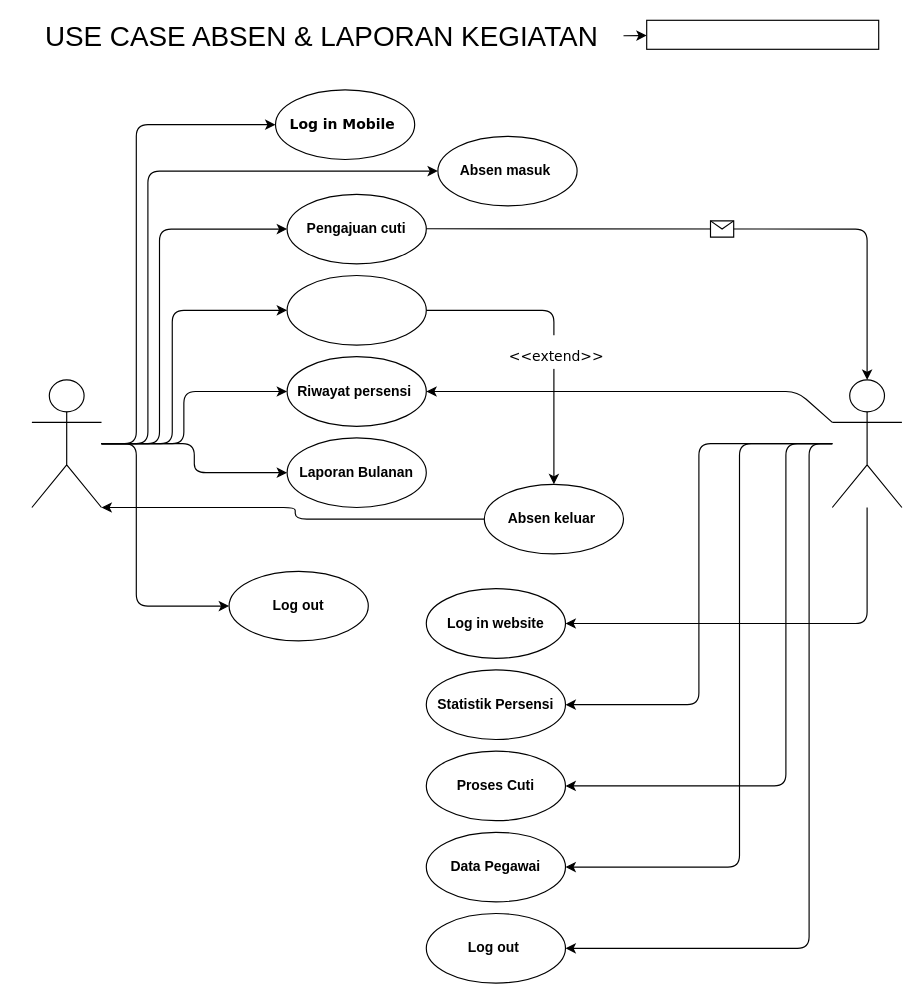
The diagram is 922 pixels wide and 1003 high, and some of its shapes have lost their labels. Each missing label, with the centre of its shape:
Admin: the point at 866,443
Buat Kegiatan: the point at 356,309
Tenaga Ahli Jakarta Smart City: the point at 762,34
User: the point at 66,443
